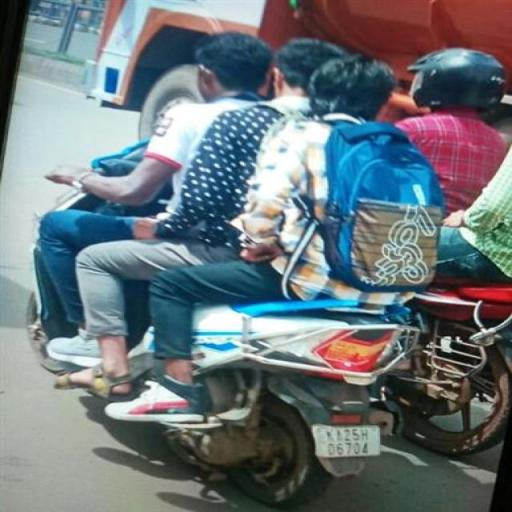tripple riding: (38, 23, 444, 315)
